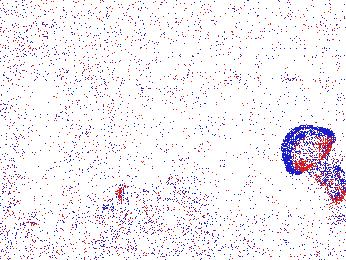flame jellyfish: (281, 125, 346, 202), (61, 190, 116, 241), (101, 184, 149, 228)
